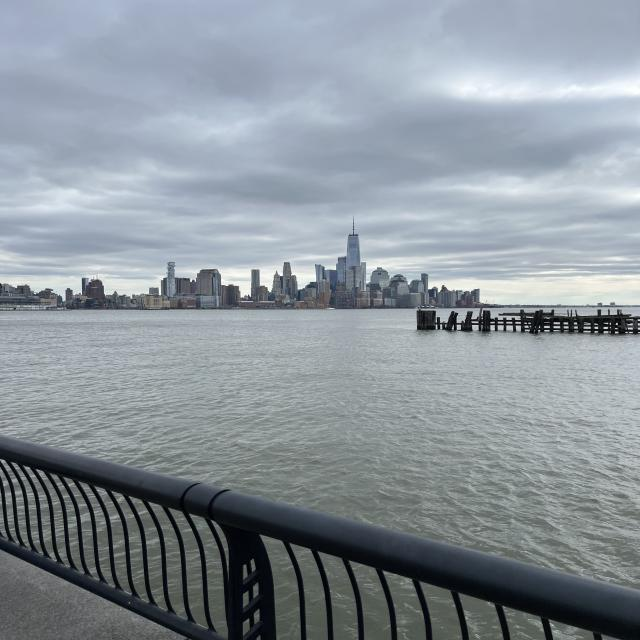WTC: (344, 214, 362, 266)
